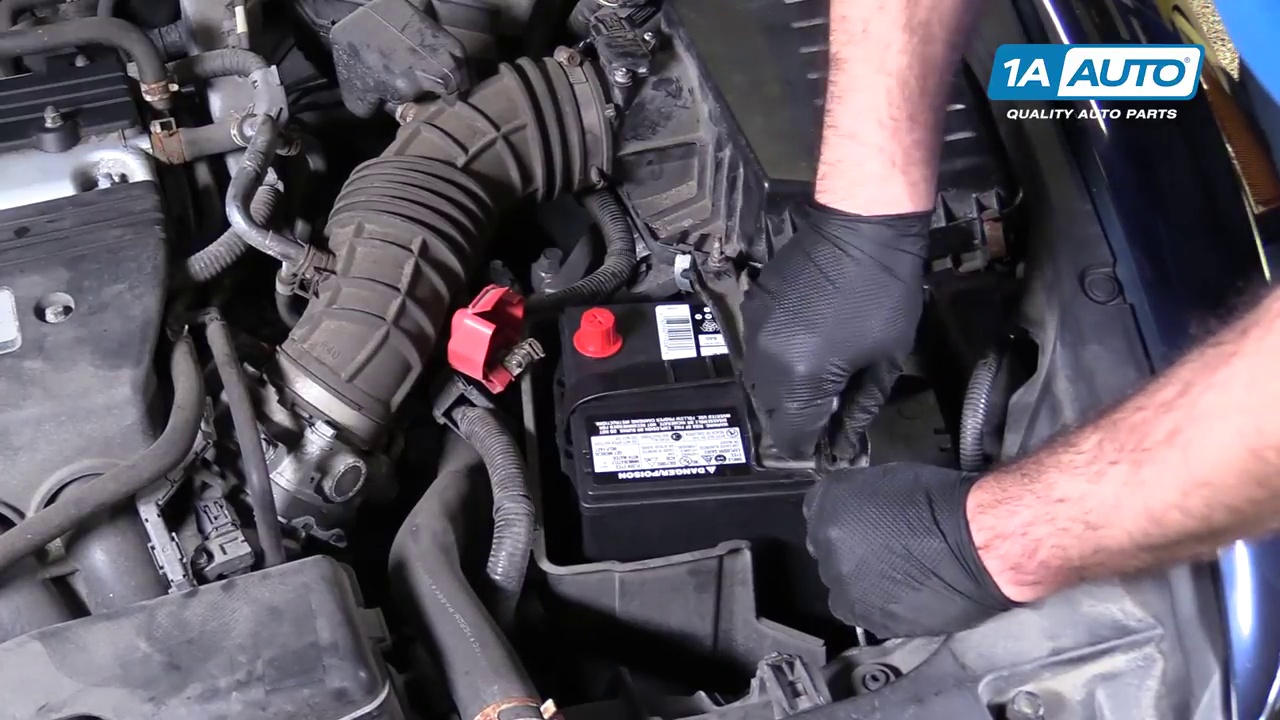battery: (560, 293, 941, 492)
pos_disconnected: (443, 263, 637, 393)
